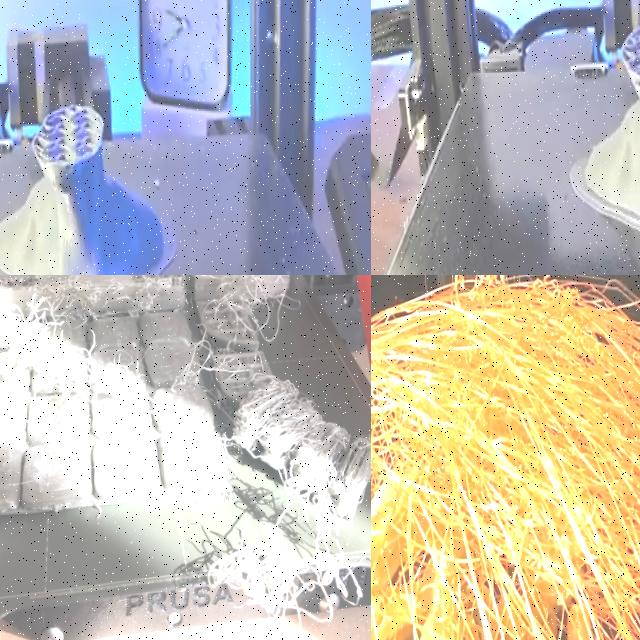spaghetti: (0, 275, 371, 640), (371, 275, 640, 640)
